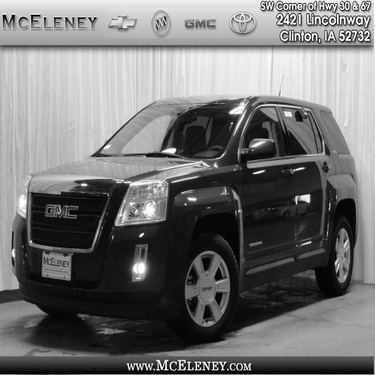car: (11, 78, 365, 327)
